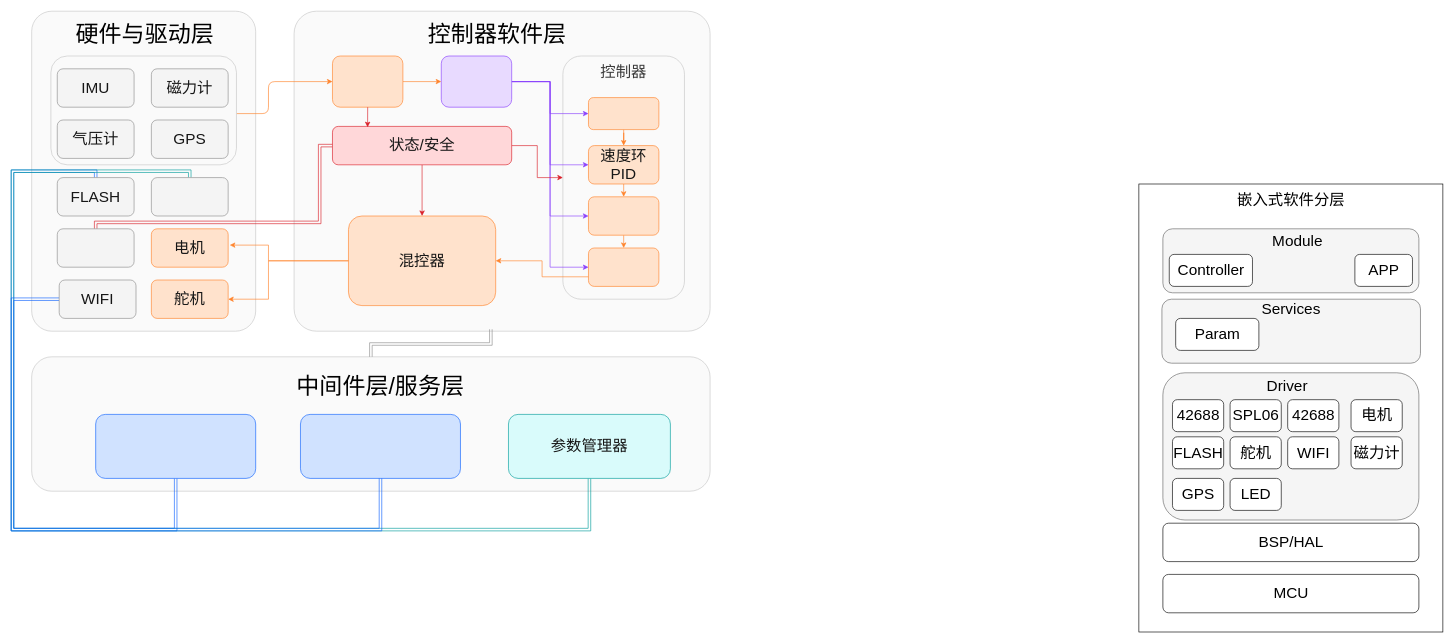
Some shapes in this 1454 by 643 pixel diagram are drawn without their labels. The shapes that lost their labels are listed below. From the top down, each one's box as (x1, y1, x2, y2) in pixels, then its label:
(332, 55, 403, 107): 传感器 预处理
(441, 55, 512, 107): EKF
(588, 97, 659, 130): 位置环P
(151, 177, 228, 216): SD Card
(588, 196, 659, 235): 姿态环P
(57, 228, 134, 267): RC
(588, 247, 659, 286): 角速度环PID
(95, 414, 256, 478): LOG日志记录
(300, 414, 460, 478): QCS地面站（MAVLINK ）
